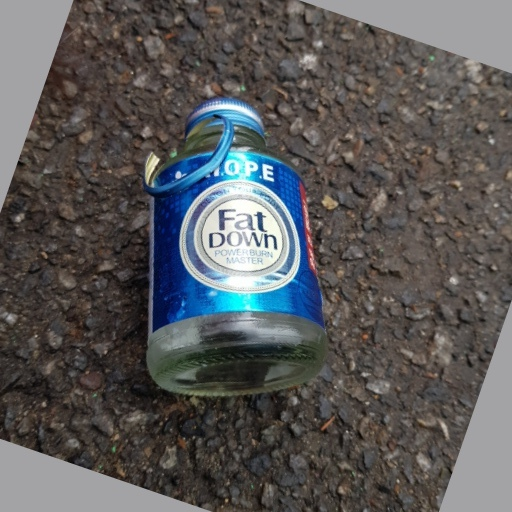Glass_4: (146, 92, 328, 402)
